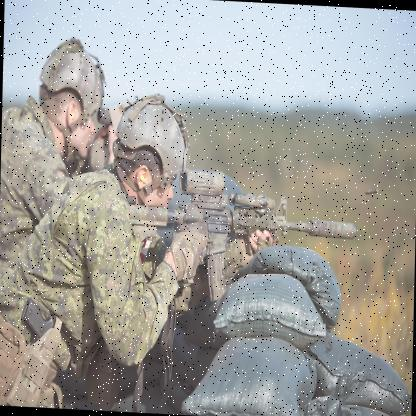rifle: (123, 169, 361, 302)
